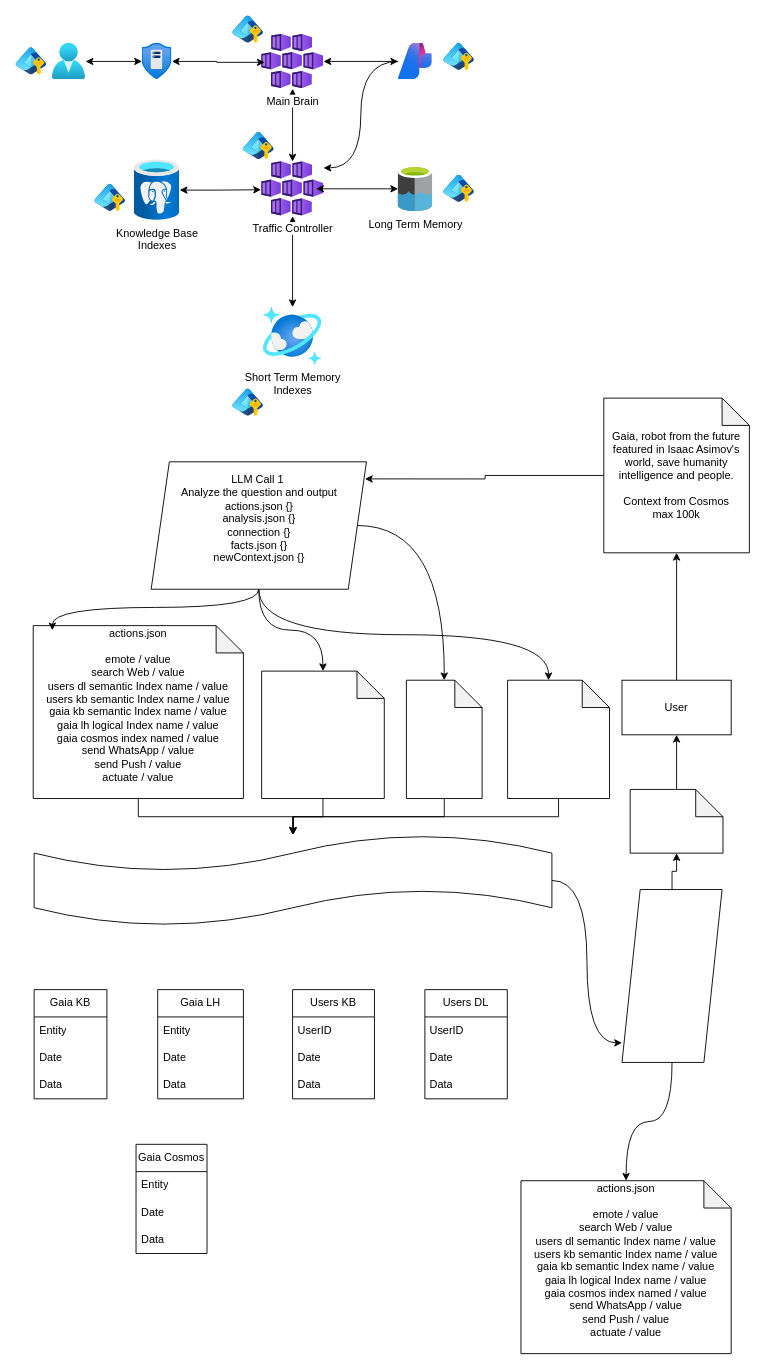
The diagram is 765 pixels wide and 1370 high, and some of its shapes have lost their labels. Here are the shapes that lost their labels. From the top down, the centre of each, then its label:
At point (415, 61): "Thought Processor".
At point (322, 734): "analysis.json emotion / value truthfulness / value intention / value".
At point (443, 739): "facts.json [{fact / value}]".
At point (558, 739): "newContext.json Old Context * 0.61".
At point (676, 821): "response.json Data".
At point (292, 880): "Response Data Context".
At point (671, 975): "LLM Call 2 Analyze the question and output actions.json response.json".
